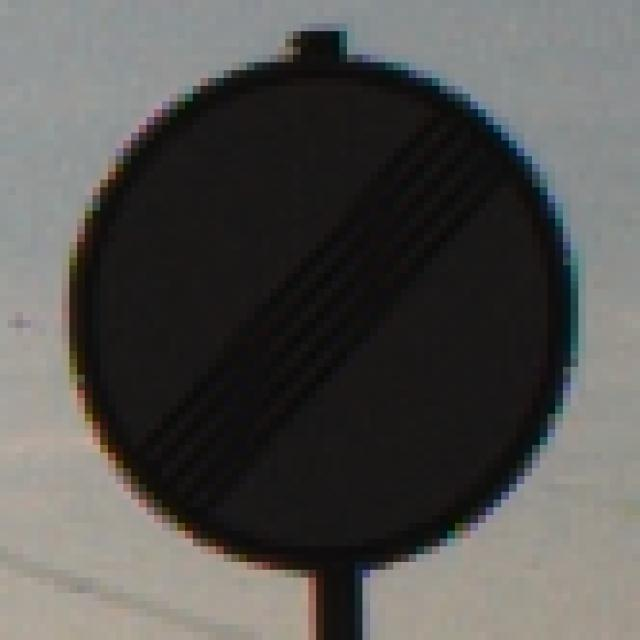restriction ends: (59, 47, 583, 569)
